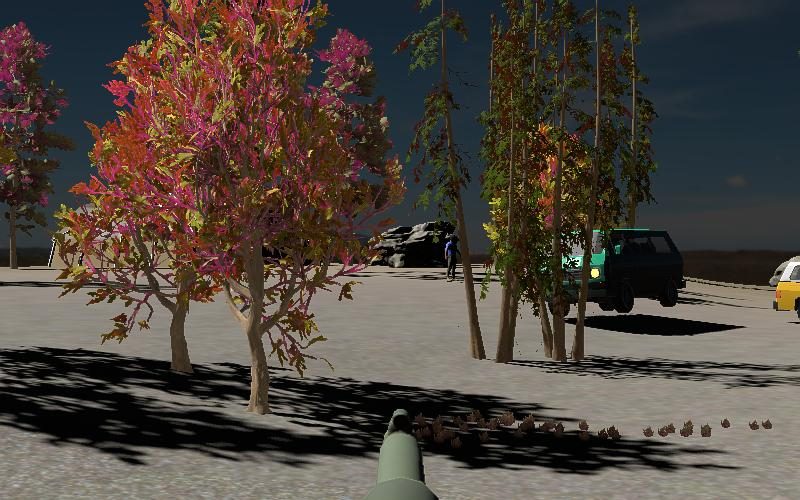Human: (444, 231, 462, 283)
car: (545, 226, 686, 314), (772, 256, 800, 325)
